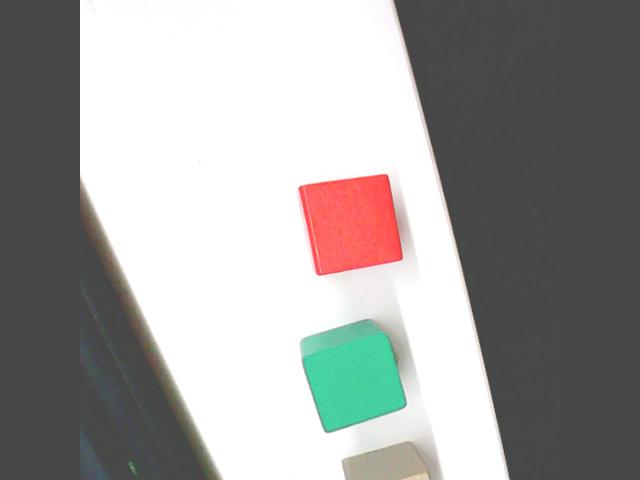green_box: (295, 316, 408, 435)
raw_box: (338, 438, 444, 480)
red_box: (293, 170, 405, 279)
